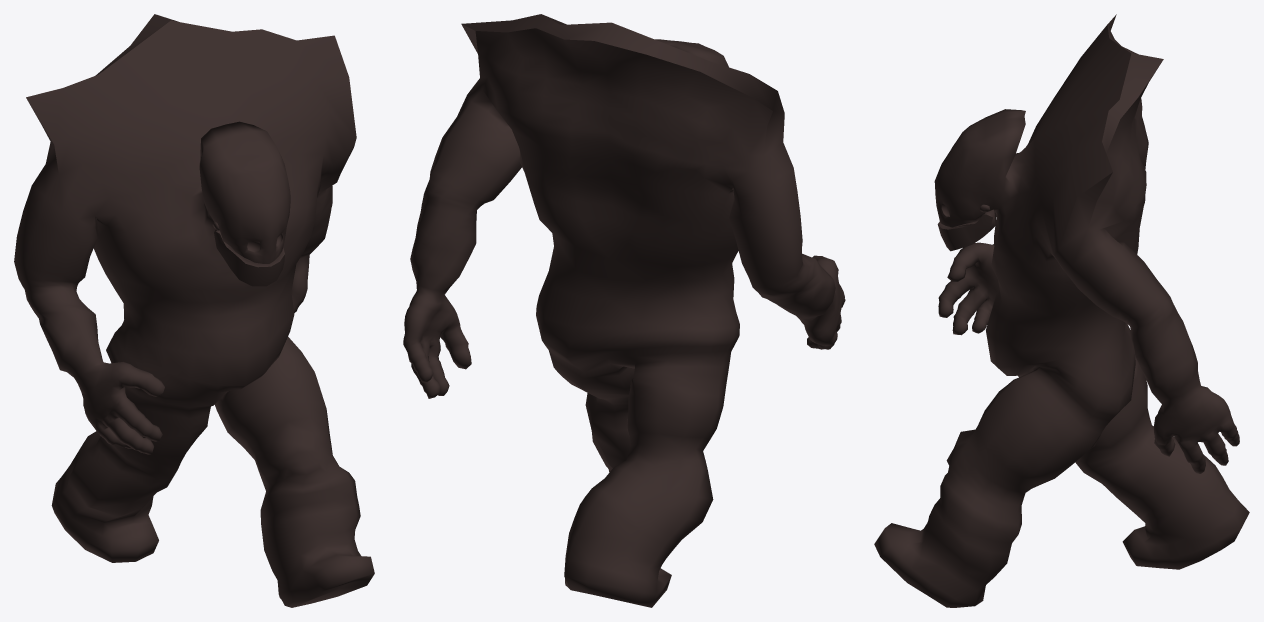
Rendered from lava_golem.glb.
3 views of the same model, side by side, from view 1: azimuth 30°, elevation 25°; view 2: azimuth 150°, elevation 25°; view 3: azimuth 270°, elevation 25° (orthographic). The views are drawn at different scales.
Visible parts, largest first — view 1: lava_golem; view 2: lava_golem; view 3: lava_golem.
Part boxes in pixels (x1,y1,x2,y2): lava_golem: (14,14,374,607); lava_golem: (403,14,845,607); lava_golem: (874,14,1249,607).
Size of the model in its own units: 0.6646 by 1 by 0.6533.
Materials: 1 (1 with a texture image).
